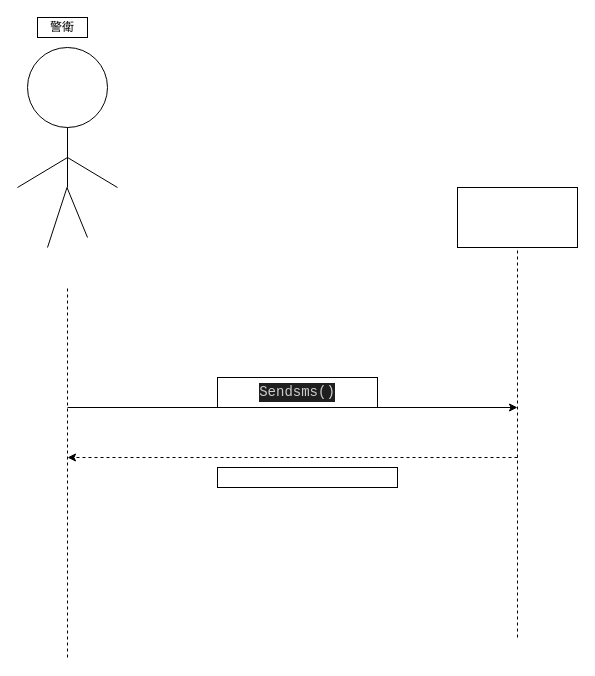
The diagram is 595 pixels wide and 676 high, and some of its shapes have lost their labels. The shapes that lost their labels are listed below. From the top down, each one's centre as x and y in pixels, then its label:
At [517,217]: "APP".
At [307,477]: "send sms".
